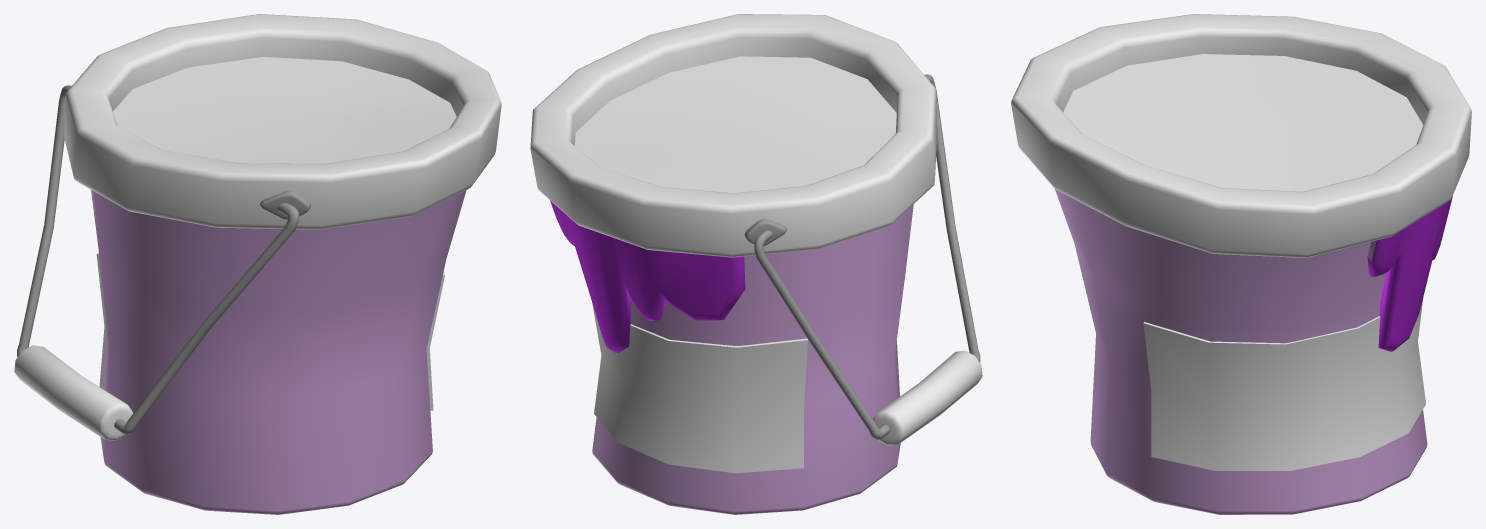
Rendered from props_paintBucket.fbx.
The picture shows the model from 3 angles, left to right: view 1: azimuth 30°, elevation 25°; view 2: azimuth 150°, elevation 25°; view 3: azimuth 270°, elevation 25°; orthographic projection. The views are drawn at different scales.
Visible parts, largest first — view 1: Pot_peinture; view 2: Pot_peinture; view 3: Pot_peinture.
Part boxes in pixels (x1,y1,x2,y2): Pot_peinture: (14, 14, 501, 514); Pot_peinture: (530, 14, 982, 514); Pot_peinture: (1011, 14, 1471, 514).
Bounding box in the file's own units: 1.05 × 1 × 0.8894.
